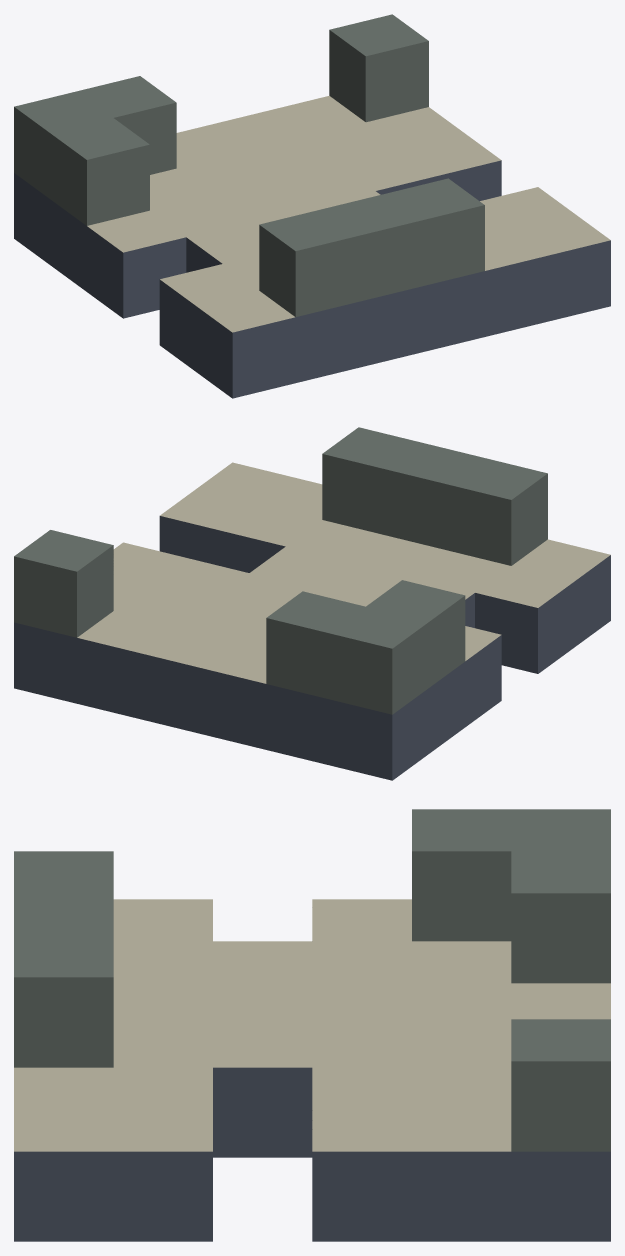
The picture shows the model from 3 angles, top to bottom: view 1: azimuth 30°, elevation 25°; view 2: azimuth 150°, elevation 25°; view 3: azimuth 270°, elevation 25°; orthographic projection. The views are drawn at different scales.
Visible parts, largest first — view 1: 8.2; view 2: 8.2; view 3: 8.2.
Boxes of the visible parts, x1,y1,x2,y2 form: 8.2: (14,14,610,398); 8.2: (14,427,610,780); 8.2: (14,809,610,1241).
Bounding box in the file's own units: 600 × 200 × 600.
